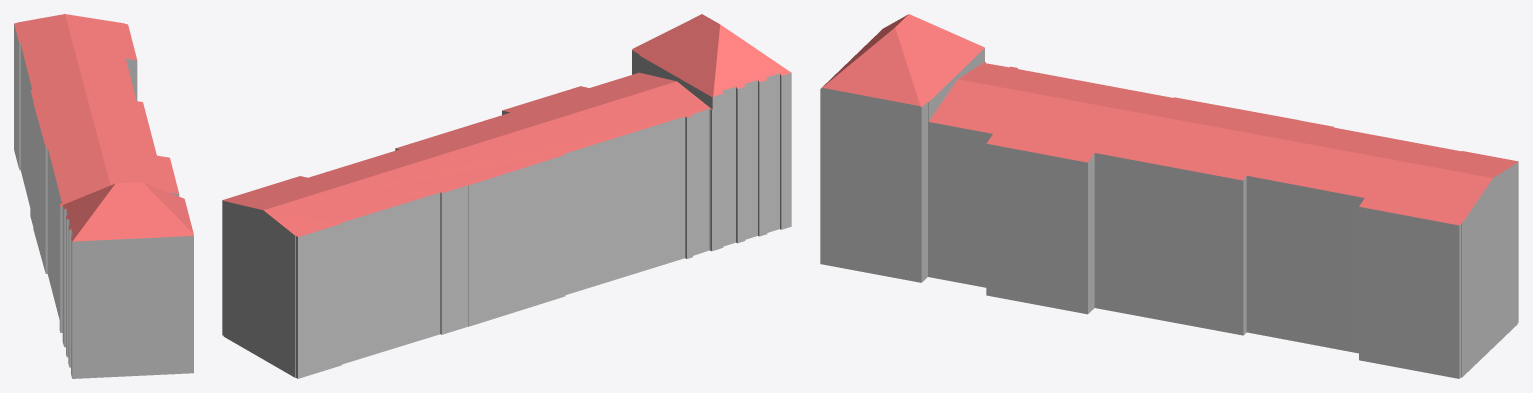
The model's file is DEBY_LOD2_4906966.gltf.
3 renders of one model, left to right at view 1: azimuth 30°, elevation 25°; view 2: azimuth 150°, elevation 25°; view 3: azimuth 270°, elevation 25°, orthographic. The views are drawn at different scales.
Parts seen in each view (by area): view 1: Z_UP; view 2: Z_UP; view 3: Z_UP.
Boxes of the visible parts, x1,y1,x2,y2 form: Z_UP: (14,14,193,378); Z_UP: (222,14,791,378); Z_UP: (820,14,1518,378).
Size of the model in its own units: 49.79 by 29.53 by 83.8.
